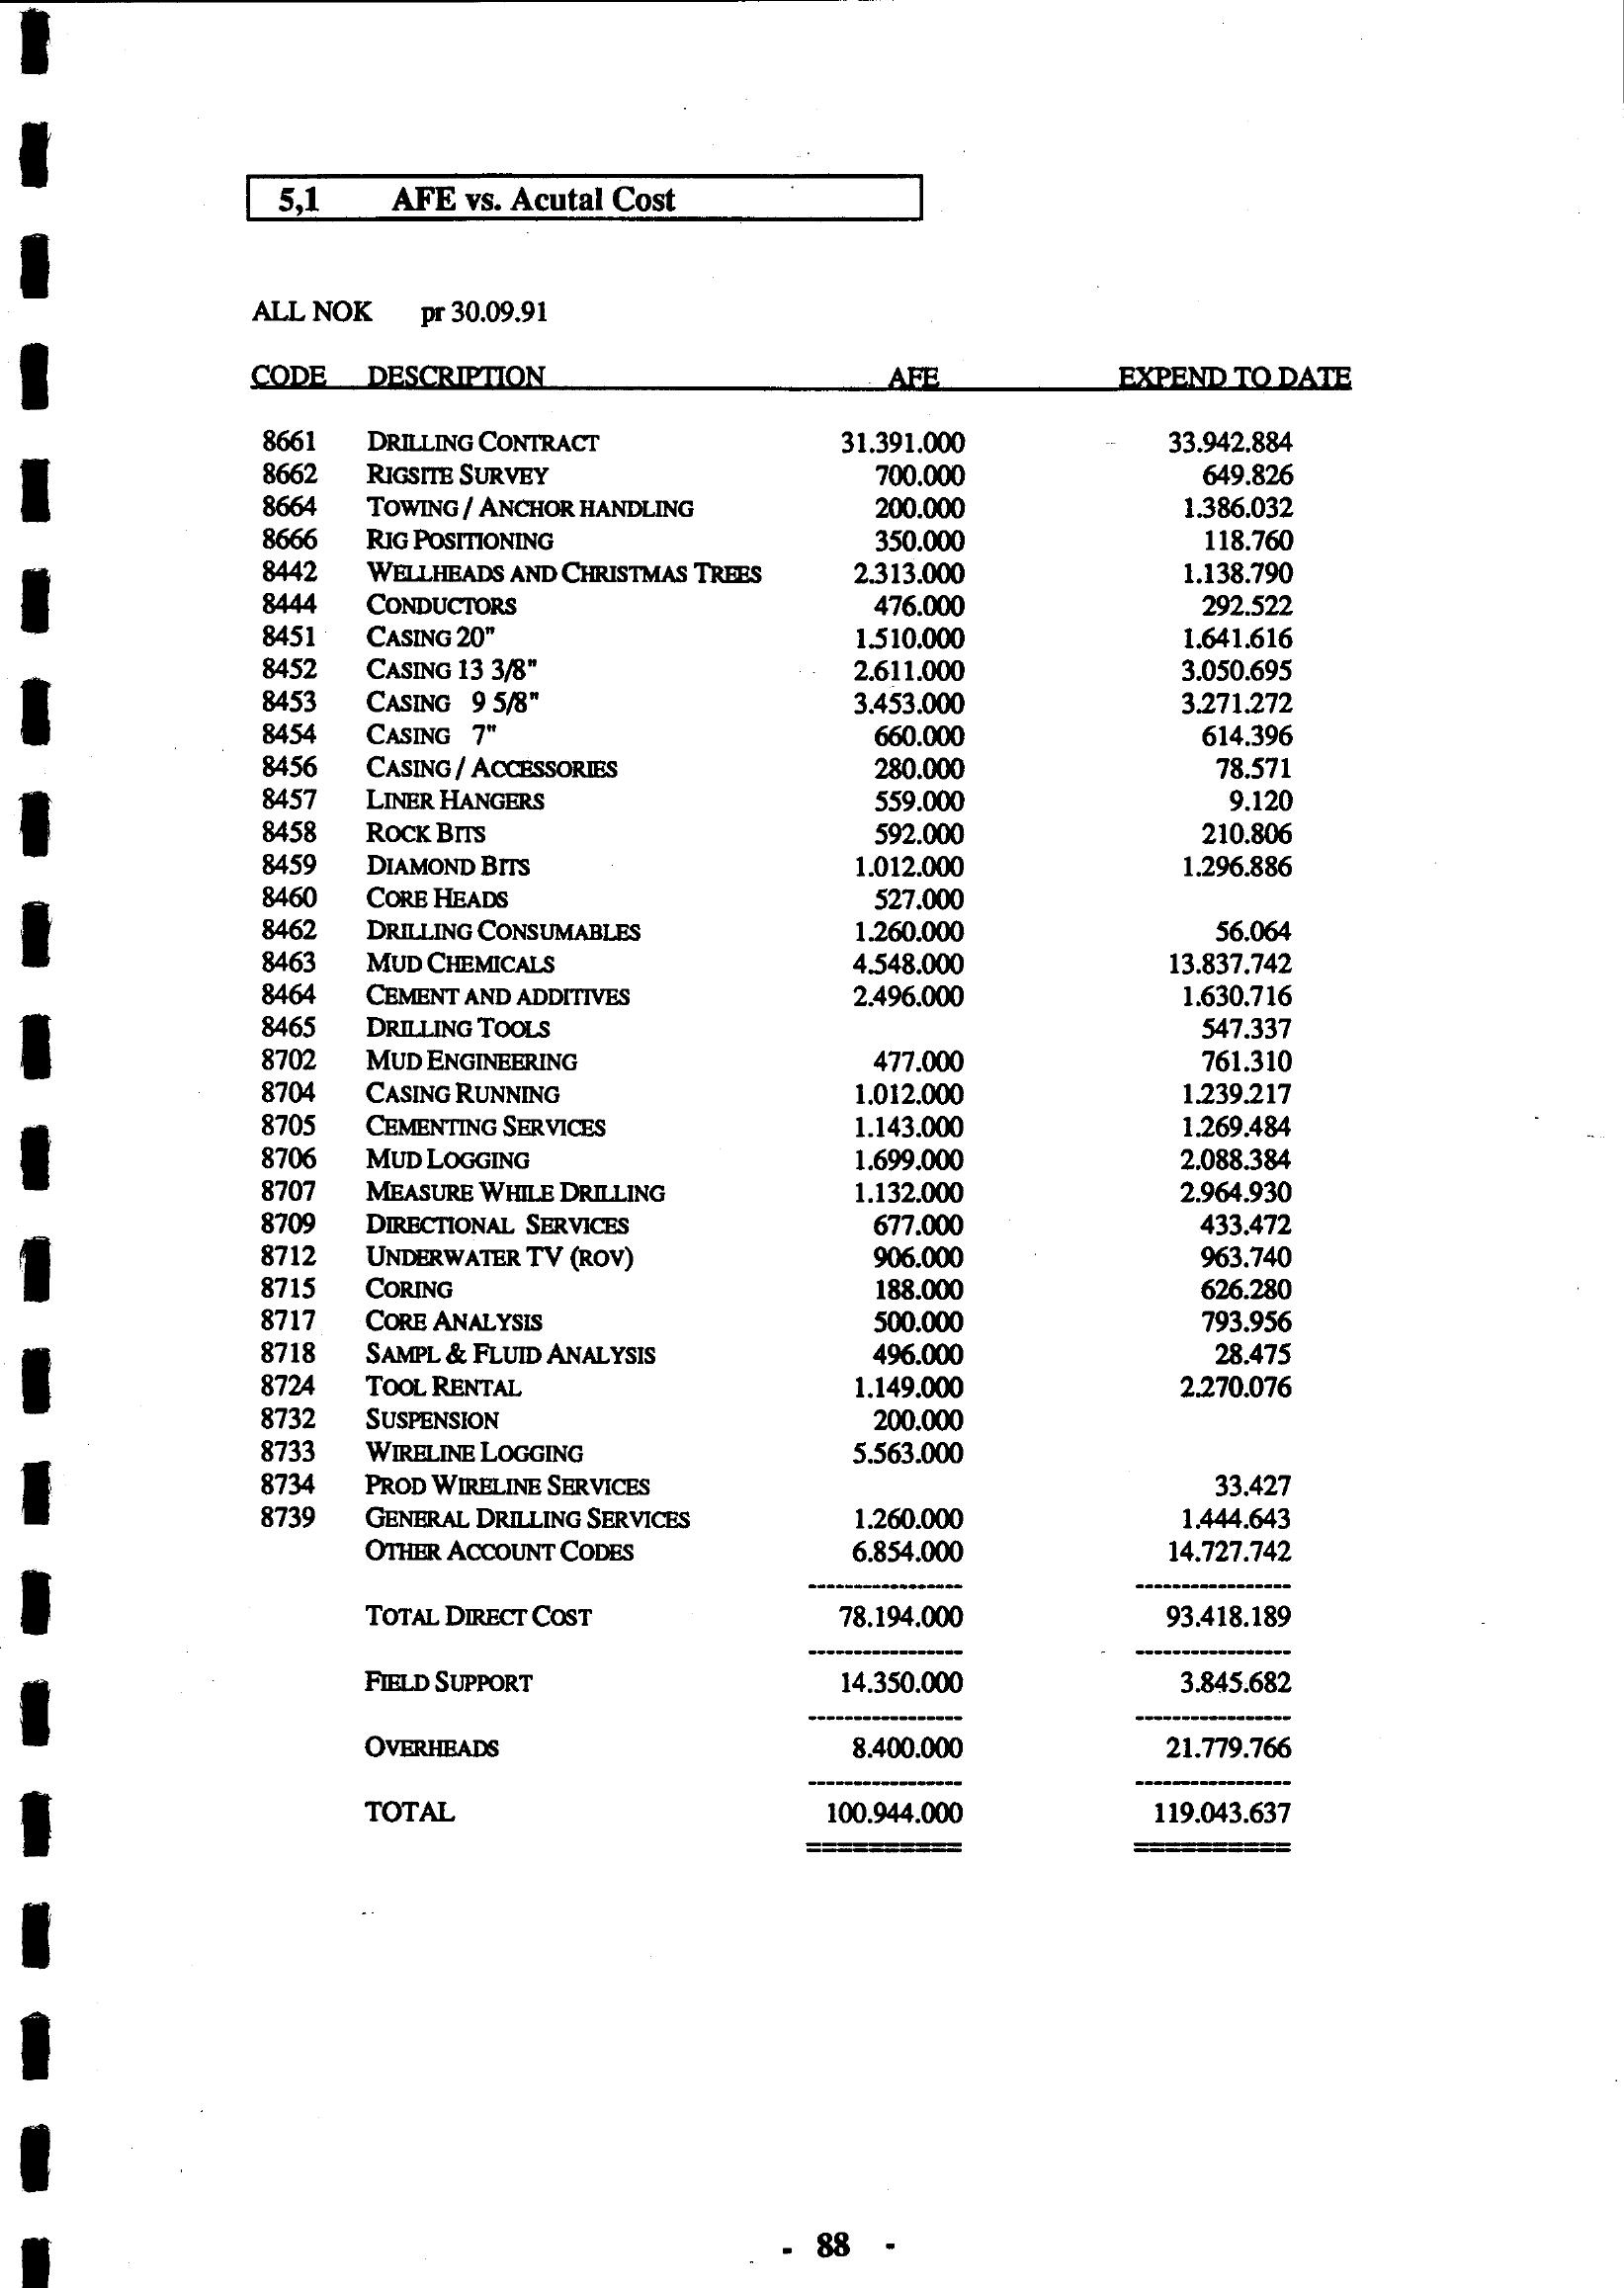text: (209, 148, 1364, 1886)
